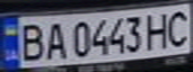0: (69, 18, 93, 58)
3: (124, 12, 148, 53)
4: (90, 16, 112, 56), (106, 15, 127, 55)
A: (39, 19, 69, 61)
B: (12, 20, 48, 62)
C: (163, 7, 193, 47)
H: (142, 9, 172, 51)
